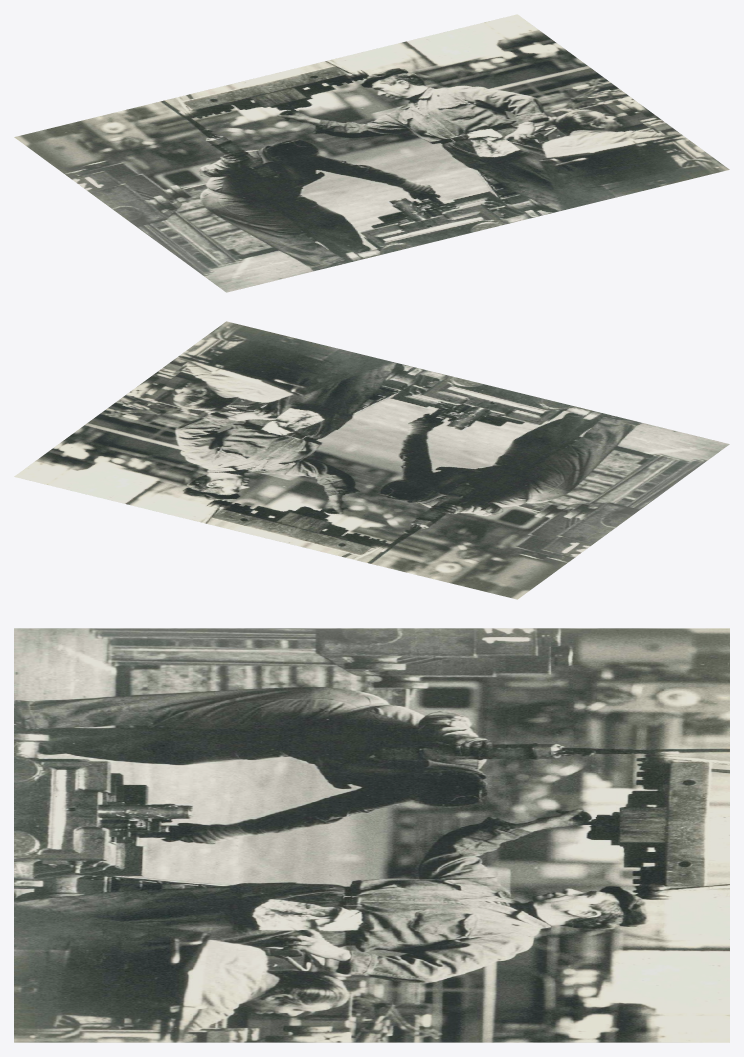
Rendered from test_foto_dism.obj.
3 renders of one model, top to bottom at view 1: azimuth 30°, elevation 25°; view 2: azimuth 150°, elevation 25°; view 3: azimuth 270°, elevation 25°, orthographic. The views are drawn at different scales.
Parts seen in each view (by area): view 1: Plane001; view 2: Plane001; view 3: Plane001.
Boxes of the visible parts, box(x1,y1,x2,y2) form: Plane001: box(14, 14, 729, 292); Plane001: box(14, 321, 729, 599); Plane001: box(14, 628, 729, 1042).
Bounding box in the file's own units: 4.88 × 0 × 3.57.
